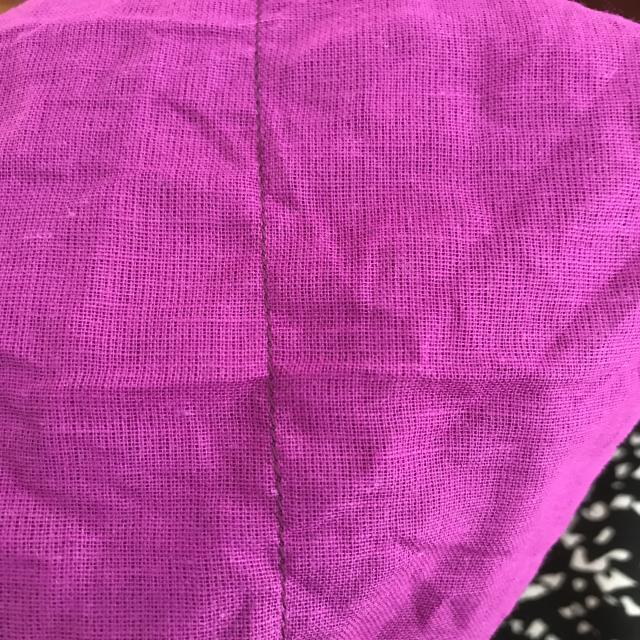good: (235, 230, 294, 346), (244, 392, 308, 479), (247, 34, 276, 147)
